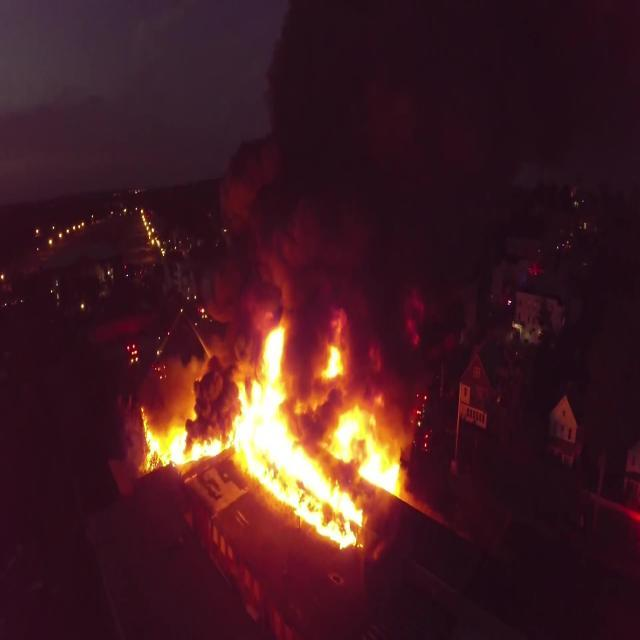Fire: (140, 316, 418, 550)
Smoke: (140, 0, 484, 324)
